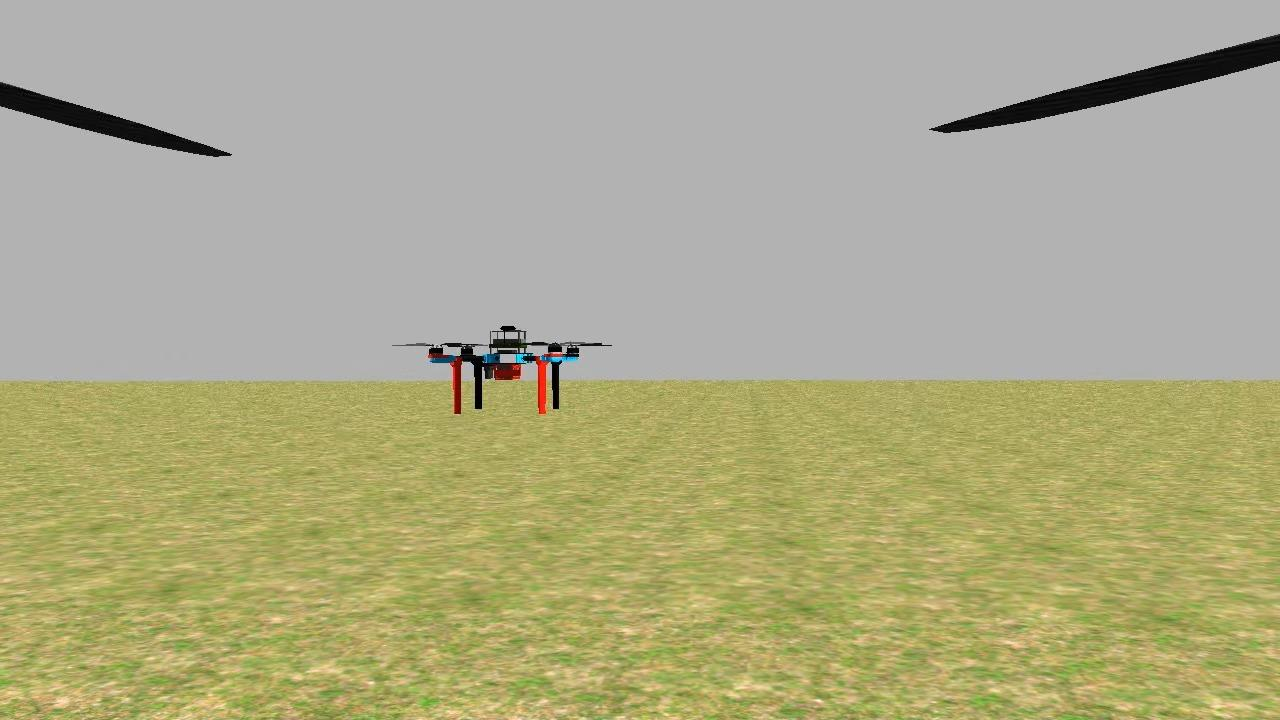UAV: (417, 310, 585, 425)
